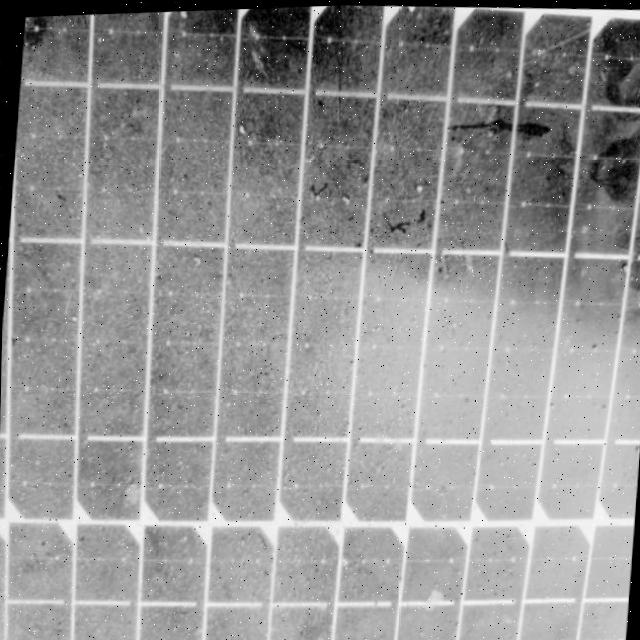Anomaly Solar Panel: (0, 0, 640, 640)
Surface Contaminant: (78, 4, 640, 611)
